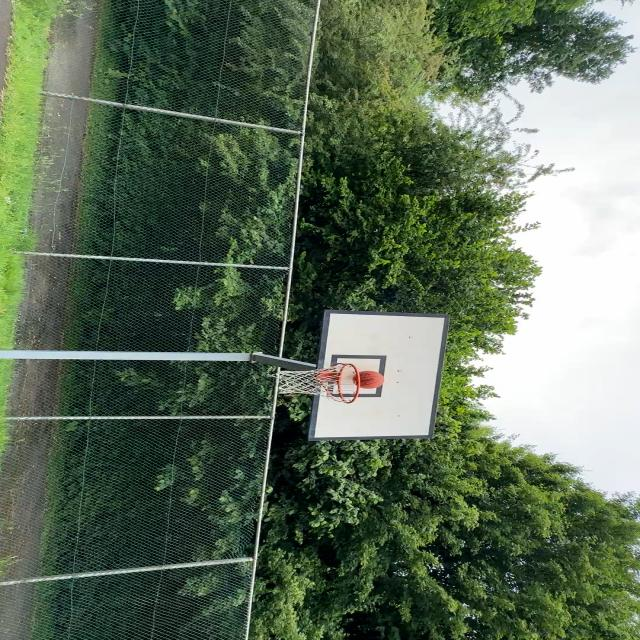rebound_hit: (352, 369, 386, 390)
